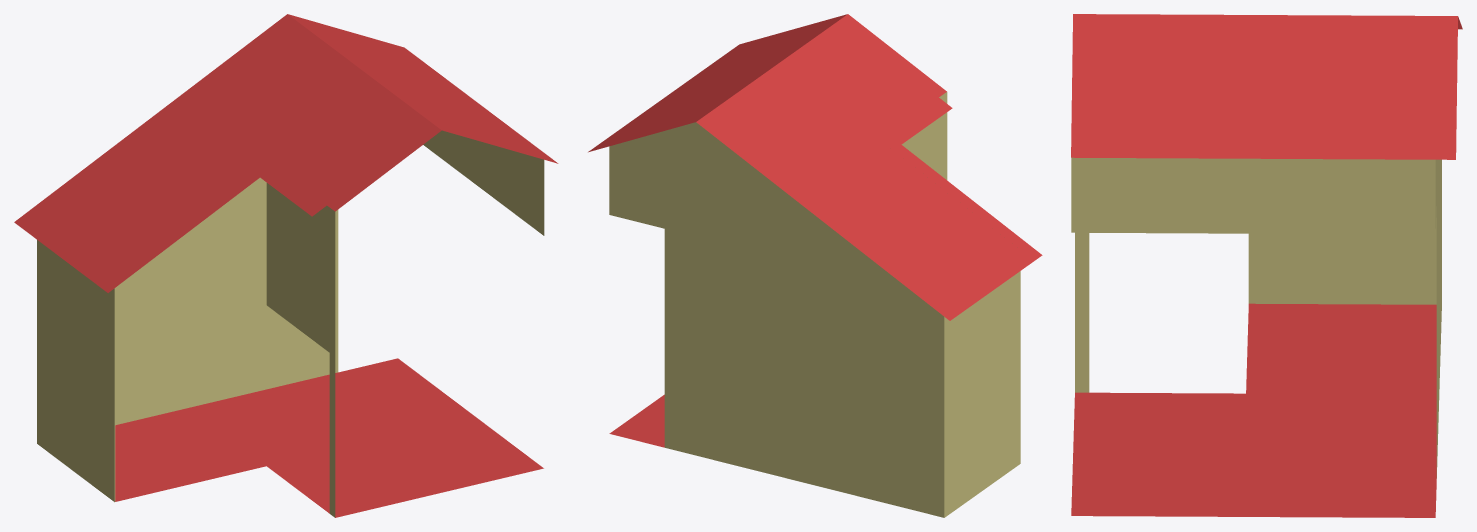
3 views of the same model, side by side, from view 1: azimuth 30°, elevation 25°; view 2: azimuth 150°, elevation 25°; view 3: azimuth 270°, elevation 25° (orthographic). The views are drawn at different scales.
Size of the model in its own units: 13.26 by 9.47 by 11.78.
